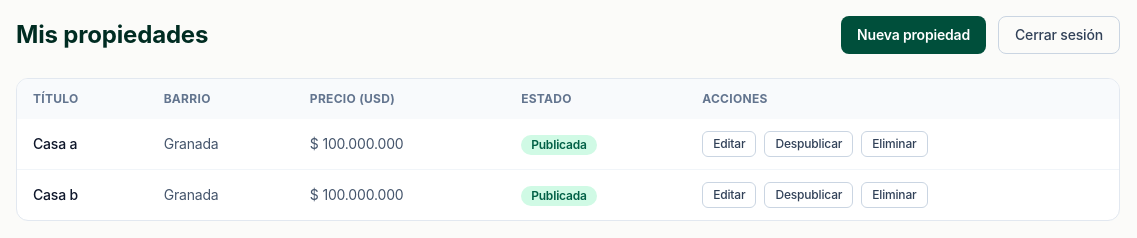
Test: DashboardClient › deletes a confirmed listing and removes the row
This screenshot has width=1137, height=238.
Expected: the text "Casa a" is shown, x1=33 y1=135 x2=77 y2=152
Click the button "Eliminar" in the row of "Casa a": (894, 144) x1=861 y1=131 x2=928 y2=157
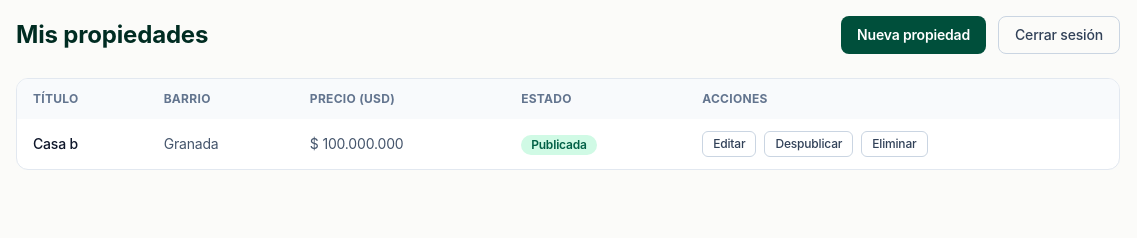
Expected: the text "Casa b" is shown, x1=33 y1=135 x2=78 y2=152
Expected: the text "Casa a" is gone
